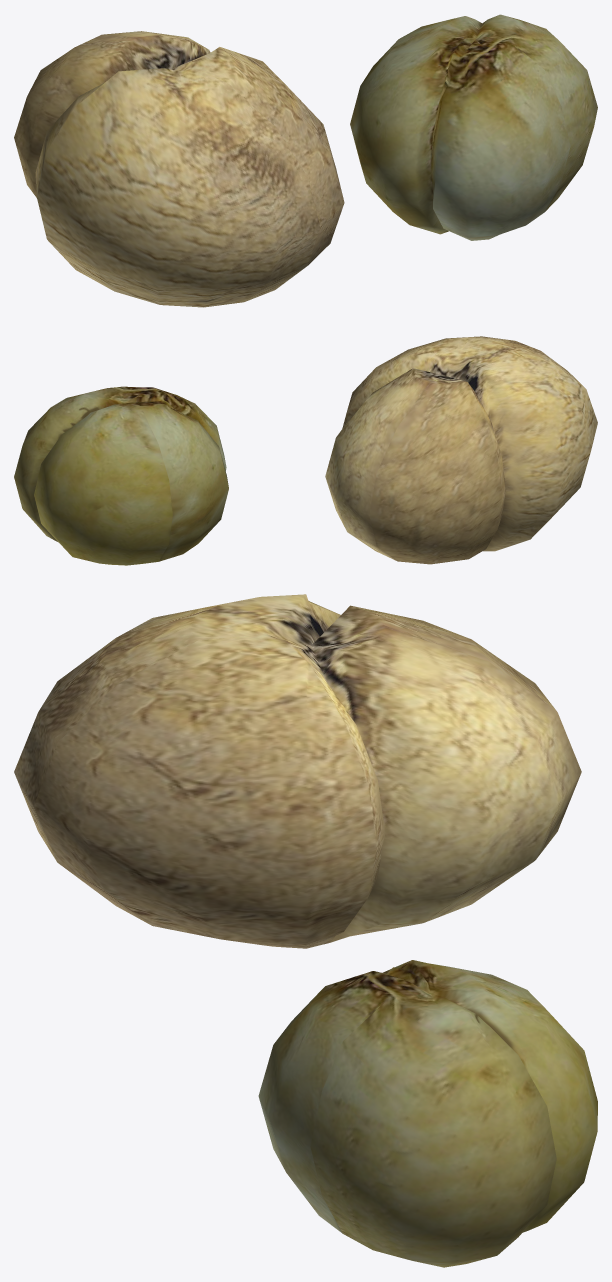
Rendered from zhebeimu.FBX.
3 views of the same model, one above another, from view 1: azimuth 30°, elevation 25°; view 2: azimuth 150°, elevation 25°; view 3: azimuth 270°, elevation 25° (orthographic). The views are drawn at different scales.
Visible parts, largest first — view 1: Sphere001, Sphere002; view 2: Sphere001, Sphere002; view 3: Sphere001, Sphere002.
Boxes of the visible parts, x1,y1,x2,y2 form: Sphere001: [14, 31, 344, 307]; Sphere002: [350, 14, 597, 240]; Sphere001: [325, 336, 597, 564]; Sphere002: [14, 386, 228, 565]; Sphere001: [14, 594, 581, 948]; Sphere002: [258, 960, 597, 1267].
Size of the model in its own units: 43.38 by 19.61 by 27.06.
Materials: 1 (1 with a texture image).
